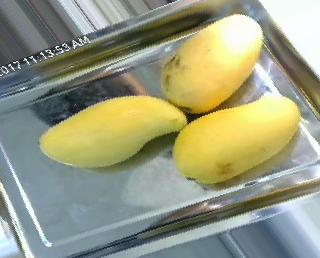Mango: (173, 86, 301, 184), (35, 93, 185, 171), (161, 12, 266, 114)
